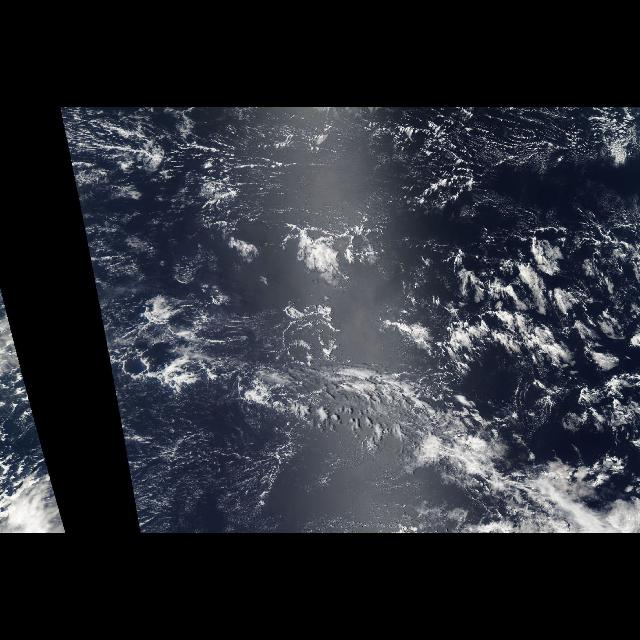Sugar: (123, 419, 310, 531)
